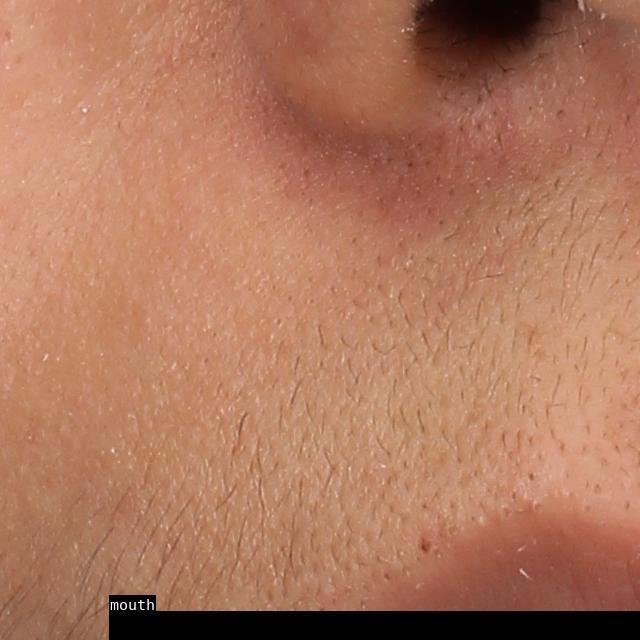nevus: (416, 529, 435, 553)
